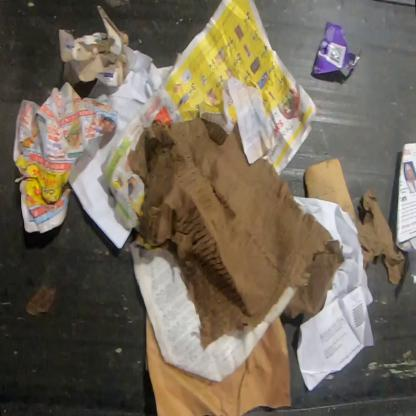cardboard: (130, 118, 343, 346), (146, 310, 291, 415), (305, 157, 407, 286), (310, 20, 362, 82)
